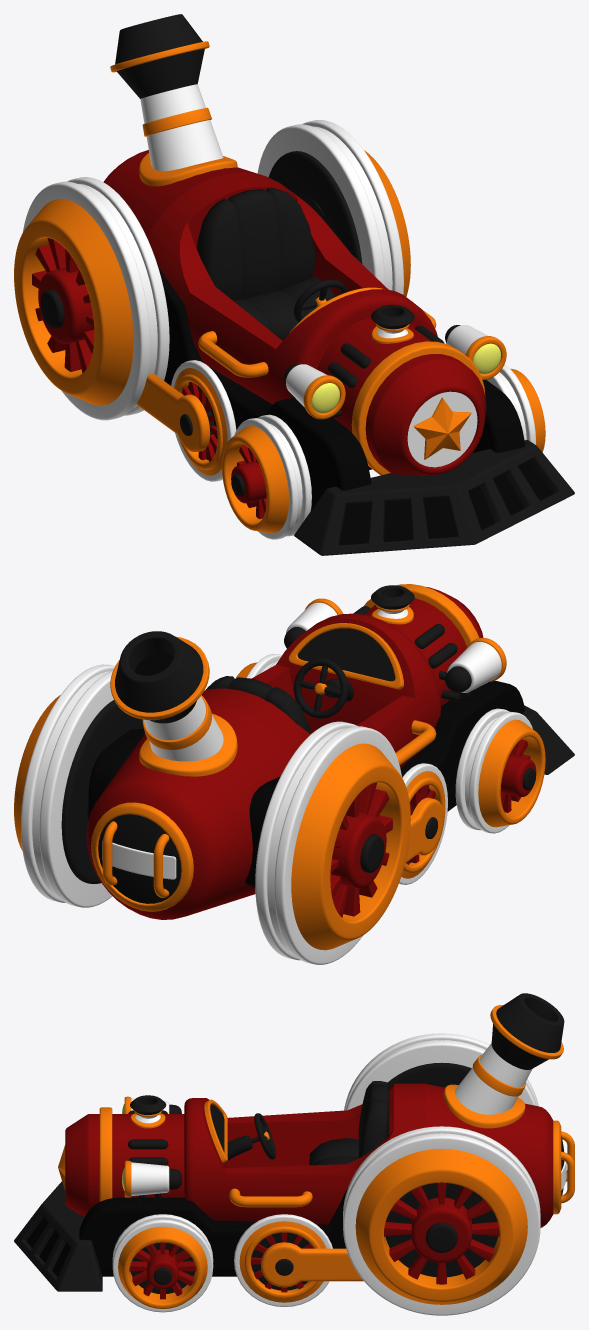
The model's file is Kart_Train.FBX.
The picture shows the model from 3 angles, top to bottom: view 1: azimuth 30°, elevation 25°; view 2: azimuth 150°, elevation 25°; view 3: azimuth 270°, elevation 25°; orthographic projection. The views are drawn at different scales.
Parts seen in each view (by area): view 1: Body, Wheel_BL, Wheel_BR, Wheel_FL, Wheel_ML, Wheel_FR, Handle; view 2: Body, Wheel_BL, Wheel_BR, Wheel_FL, Screen, Wheel_ML, Handle, Wheel_FR; view 3: Body, Wheel_BR, Wheel_FR, Wheel_BL, Wheel_MR, Handle.
Boxes of the visible parts, x1=… form: Body: x1=103, y1=14, x2=574, y2=555; Wheel_BL: x1=14, y1=177, x2=169, y2=420; Wheel_BR: x1=257, y1=120, x2=410, y2=296; Wheel_FL: x1=221, y1=414, x2=311, y2=539; Wheel_ML: x1=171, y1=360, x2=236, y2=481; Wheel_FR: x1=486, y1=364, x2=545, y2=452; Handle: x1=293, y1=279, x2=347, y2=322; Body: x1=86, y1=584, x2=574, y2=919; Wheel_BL: x1=255, y1=721, x2=410, y2=964; Wheel_BR: x1=14, y1=664, x2=143, y2=907; Wheel_FL: x1=455, y1=708, x2=545, y2=833; Screen: x1=298, y1=628, x2=395, y2=681; Wheel_ML: x1=399, y1=763, x2=447, y2=884; Handle: x1=294, y1=658, x2=348, y2=718; Wheel_FR: x1=235, y1=654, x2=281, y2=678; Body: x1=14, y1=993, x2=574, y2=1291; Wheel_BR: x1=343, y1=1126, x2=540, y2=1315; Wheel_FR: x1=112, y1=1214, x2=213, y2=1312; Wheel_BL: x1=344, y1=1033, x2=538, y2=1110; Wheel_MR: x1=234, y1=1214, x2=332, y2=1306; Handle: x1=254, y1=1113, x2=275, y2=1159.
Size of the model in its own units: 176 by 168 by 321.
